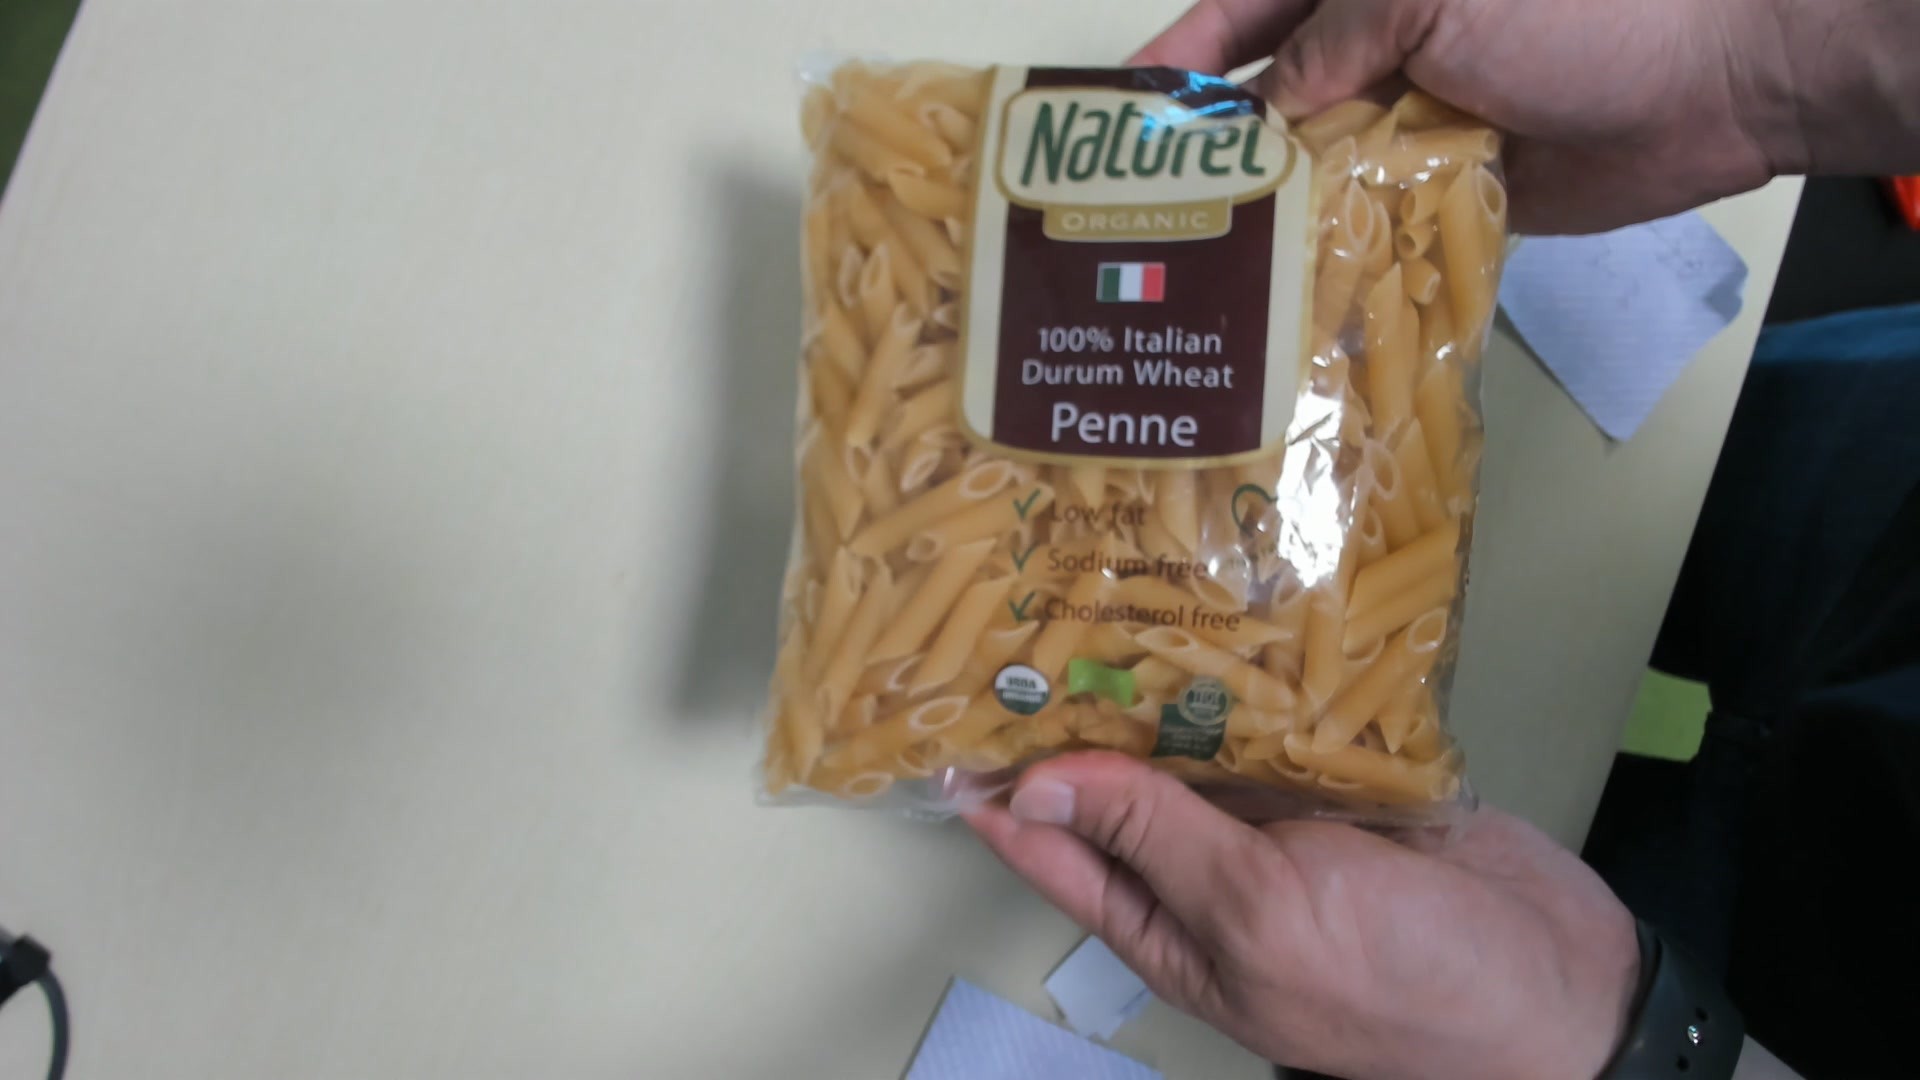Pasta_500-599g_Halal_NonHealthy: (789, 63, 1486, 825)
